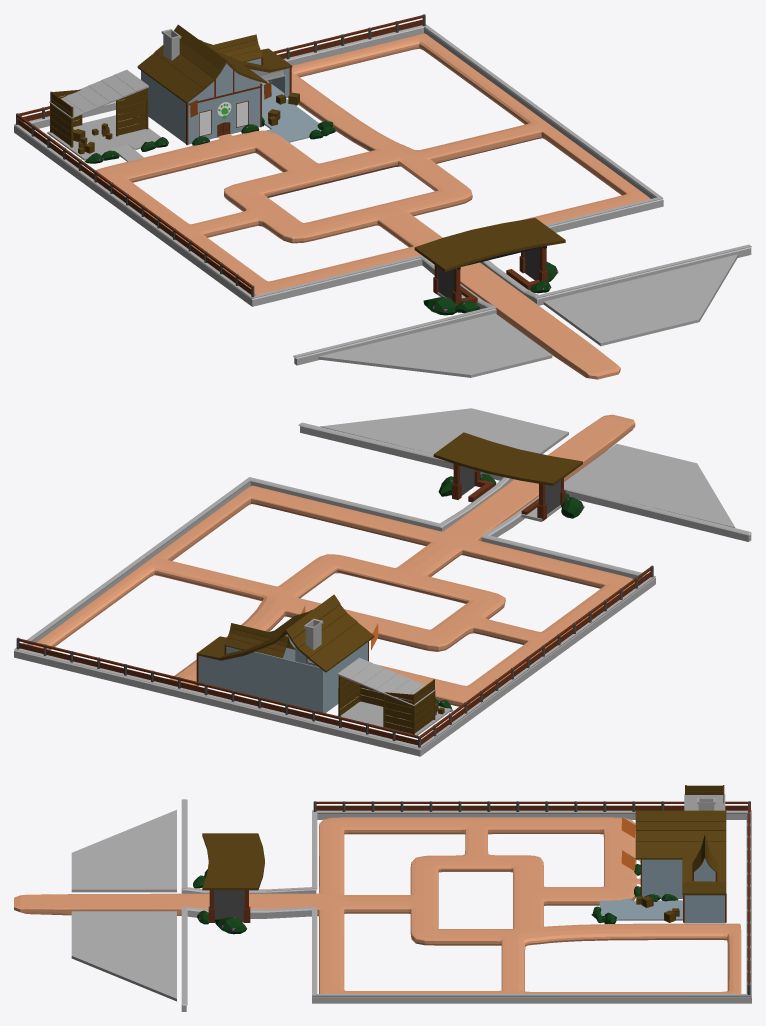
File: Main_Building_Level_4.fbx
3 renders of one model, top to bottom at view 1: azimuth 30°, elevation 25°; view 2: azimuth 150°, elevation 25°; view 3: azimuth 270°, elevation 25°, orthographic. The views are drawn at different scales.
Visible parts, largest first — view 1: Pad Level 4, Ingang, Fence, Main_Building.001, Hekkie.002, Roof.005, Roof.004, Storage?.001, Bush.030, Roof.006; view 2: Pad Level 4, Ingang, Fence, Hekkie.002, Main_Building.001, Roof.005, Roof.004, Roof.006, Storage?.001, Bush.030; view 3: Pad Level 4, Ingang, Fence, Roof.005, Hekkie.002, Main_Building.001, Bush.030, Roof.004, Roof.006.
Boxes of the visible parts, <box> form: Pad Level 4: <box>92,33,650,379</box>; Ingang: <box>318,218,738,377</box>; Fence: <box>14,24,751,365</box>; Main_Building.001: <box>141,63,321,144</box>; Hekkie.002: <box>16,14,425,297</box>; Roof.005: <box>137,24,292,103</box>; Roof.004: <box>49,69,148,118</box>; Storage?.001: <box>47,113,161,160</box>; Bush.030: <box>423,262,558,315</box>; Roof.006: <box>208,34,263,61</box>; Pad Level 4: <box>32,414,635,706</box>; Ingang: <box>320,408,735,527</box>; Fence: <box>14,422,751,756</box>; Hekkie.002: <box>16,565,653,747</box>; Main_Building.001: <box>198,634,367,712</box>; Roof.005: <box>196,594,374,672</box>; Roof.004: <box>337,657,435,705</box>; Roof.006: <box>224,623,295,658</box>; Storage?.001: <box>337,690,451,735</box>; Bush.030: <box>438,474,584,518</box>; Pad Level 4: <box>14,817,741,993</box>; Ingang: <box>71,810,264,1001</box>; Fence: <box>181,799,751,1011</box>; Roof.005: <box>635,810,726,895</box>; Hekkie.002: <box>313,801,750,994</box>; Main_Building.001: <box>599,859,725,923</box>; Bush.030: <box>193,869,246,934</box>; Roof.004: <box>684,794,725,810</box>; Roof.006: <box>692,835,717,873</box>.
Bounding box in the file's own units: 11385 × 2093 × 17250.
